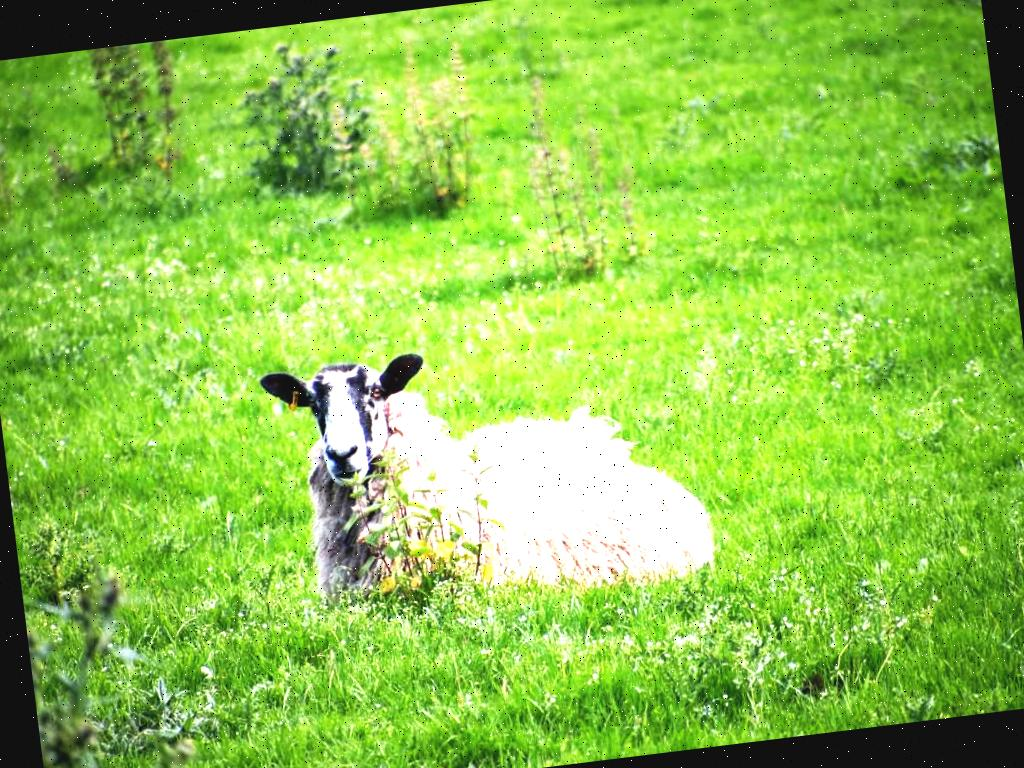Sheep: (257, 322, 716, 628)
